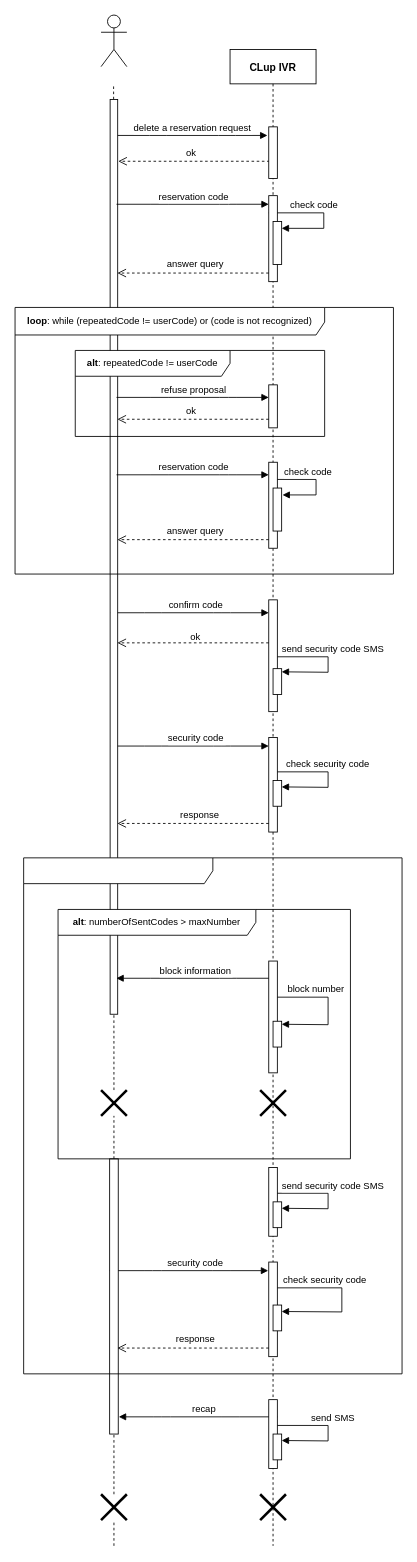
Some shapes in this 417 by 1562 pixel diagram are drawn without their labels. Here are the shapes that lost their labels. From the top down, the box of each, then its label:
(100, 14, 127, 67): User
(23, 857, 402, 1374): loop : while (inputCode != expectedCode)
